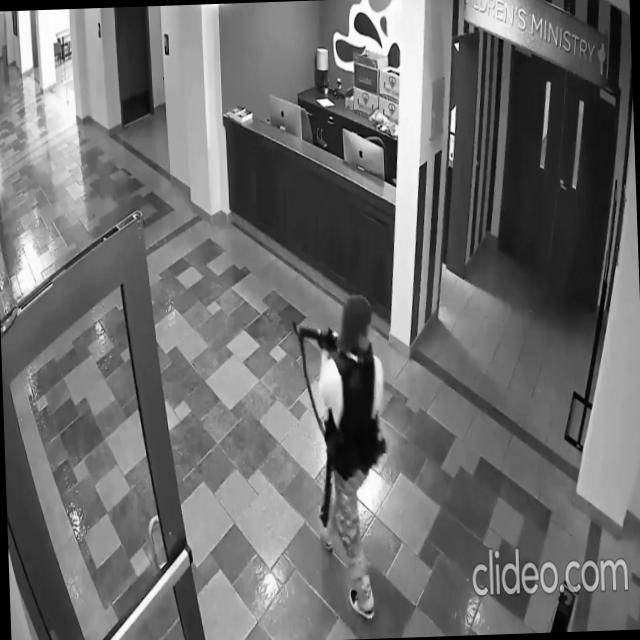gun: (316, 404, 338, 528), (292, 318, 345, 356)
person with a gun: (292, 291, 392, 624)
